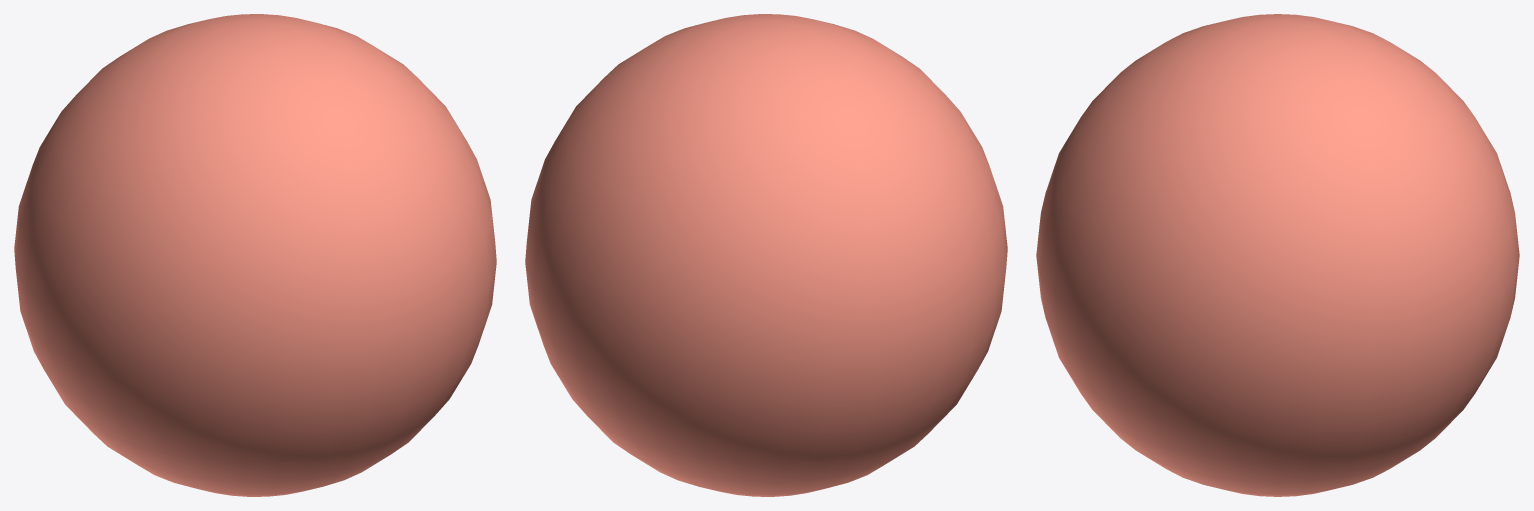
File: javelin-rocket-pickup.glb
3 renders of one model, left to right at view 1: azimuth 30°, elevation 25°; view 2: azimuth 150°, elevation 25°; view 3: azimuth 270°, elevation 25°, orthographic.
Parts seen in each view (by area): view 1: Pickup_Bubble.001; view 2: Pickup_Bubble.001; view 3: Pickup_Bubble.001.
Boxes of the visible parts, bbox=[...] form: Pickup_Bubble.001: bbox=[14, 14, 496, 496]; Pickup_Bubble.001: bbox=[525, 14, 1007, 496]; Pickup_Bubble.001: bbox=[1036, 14, 1519, 496].
Bounding box in the file's own units: 1 × 1 × 1.
